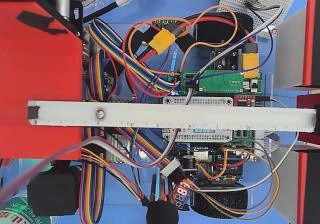ironball: (94, 108, 104, 118)
